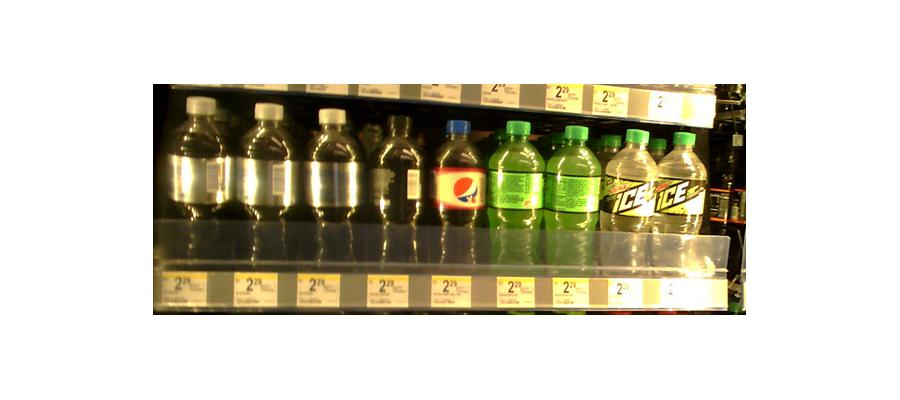bottle: (236, 100, 303, 263), (164, 97, 228, 260), (304, 110, 369, 269), (367, 111, 426, 268), (487, 121, 545, 270), (544, 123, 601, 274), (430, 115, 485, 269), (601, 126, 658, 266), (656, 127, 707, 270)
